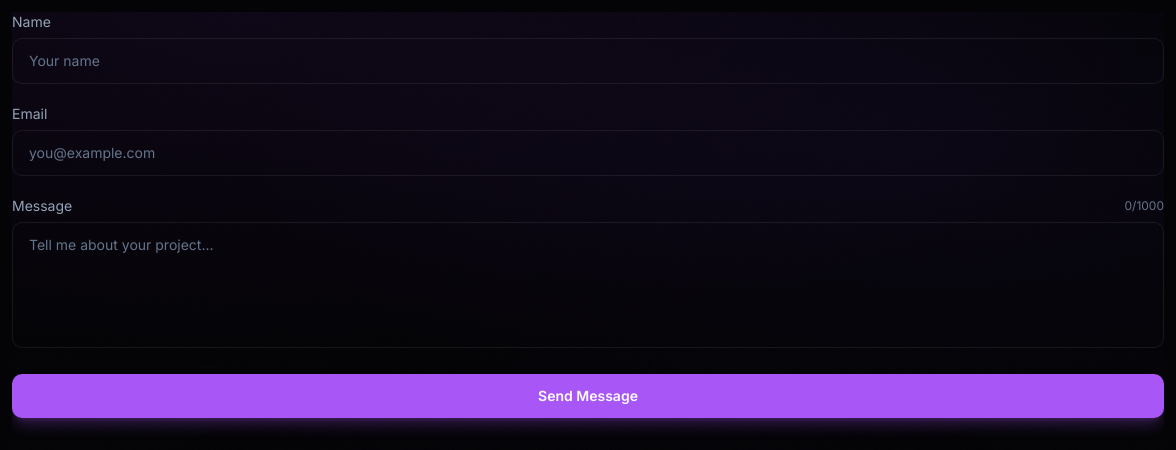
Test: ContactForm › submits form with valid data and shows success message
Type "Jane Doe" into the field labelled "Name" at x=588, y=61, box [12,38,1164,84]
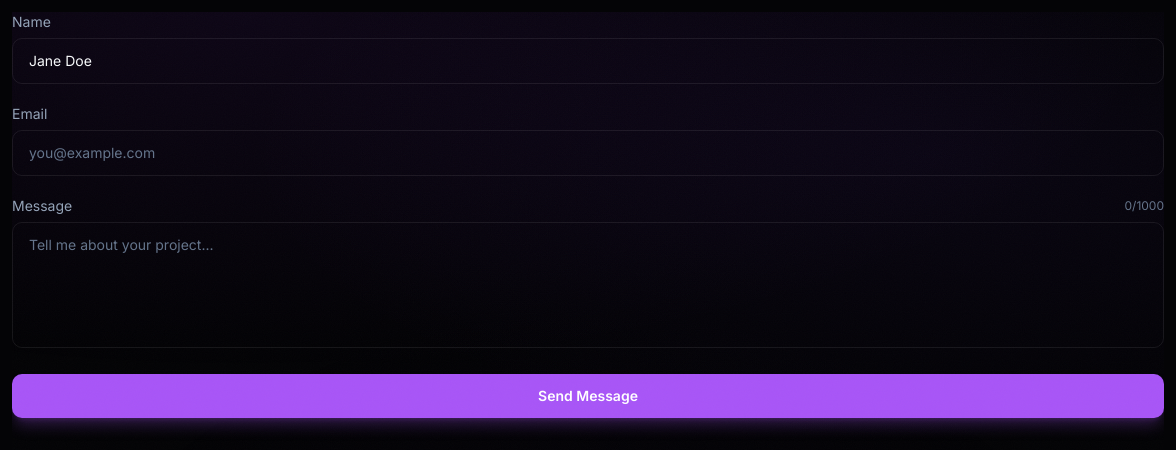
Type "jane@example.com" into the field labelled "Email" at x=588, y=153, box [12,130,1164,176]
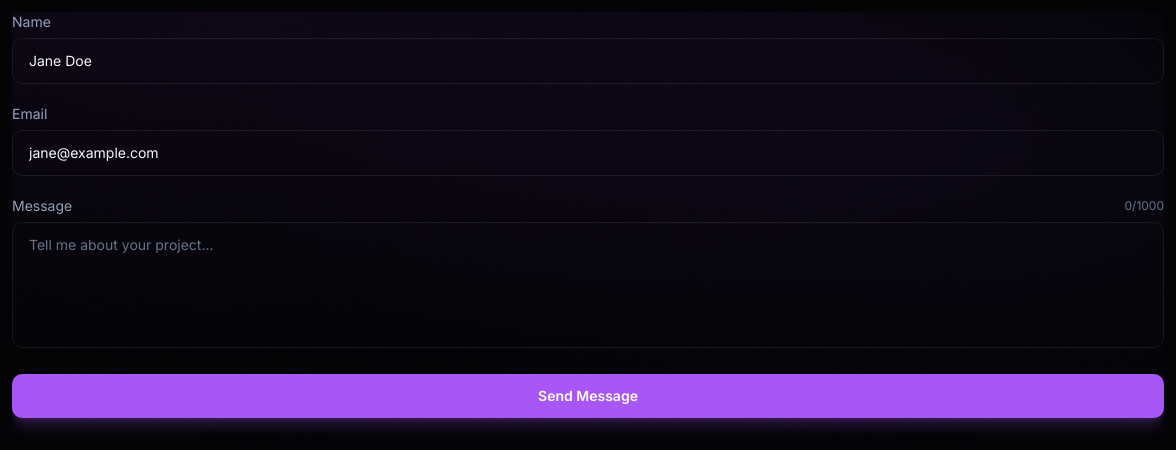
Type "Hello, I have an opportunity for you!" into the text box labelled "Message" at x=588, y=285, box [12,222,1164,348]
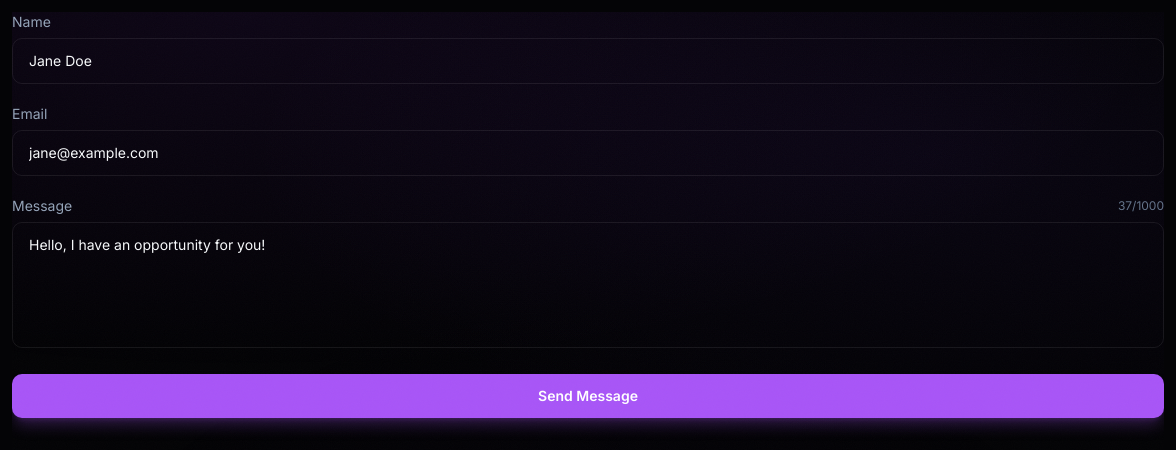
Click the button "Send Message" at x=588, y=396, box [12,374,1164,418]
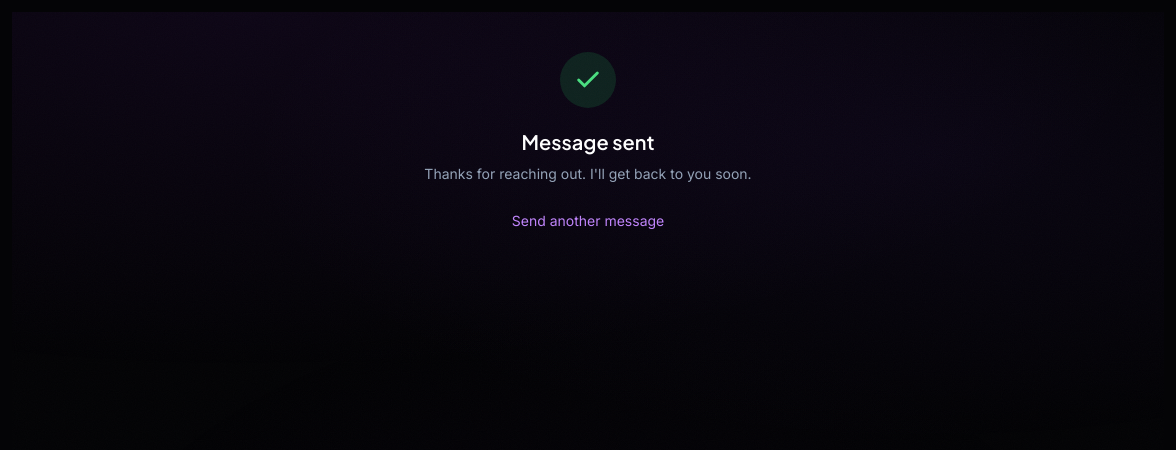
Result: the element with test id "success-message" is shown at [424,52,752,231]
Result: the heading "Message sent" is shown at [522,129,654,154]
